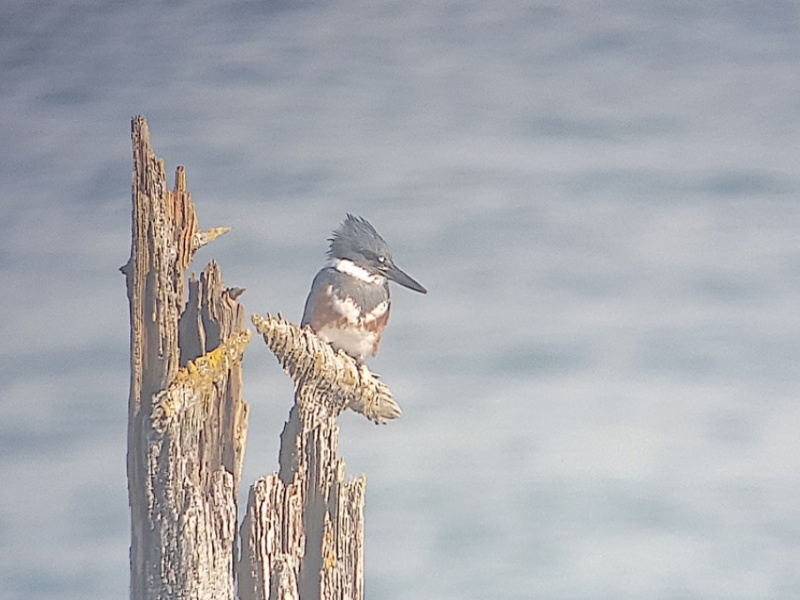kingfisher: (298, 210, 429, 363)
